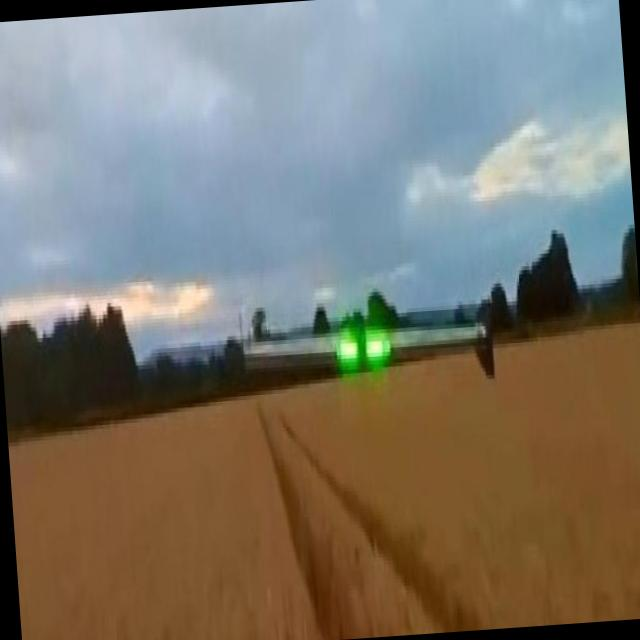UAV: (231, 276, 557, 448)
